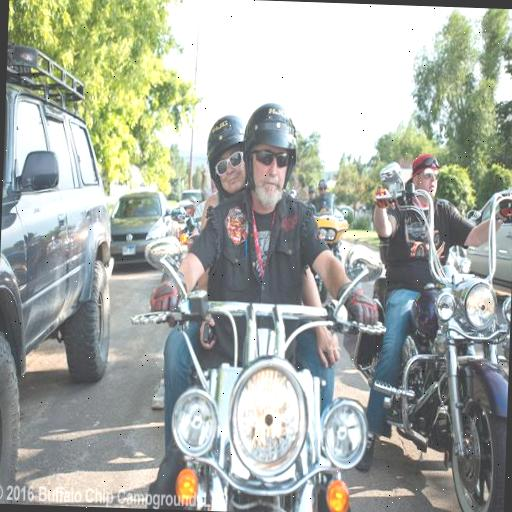helmet: (224, 95, 339, 512)
no helmet: (372, 137, 466, 466)
